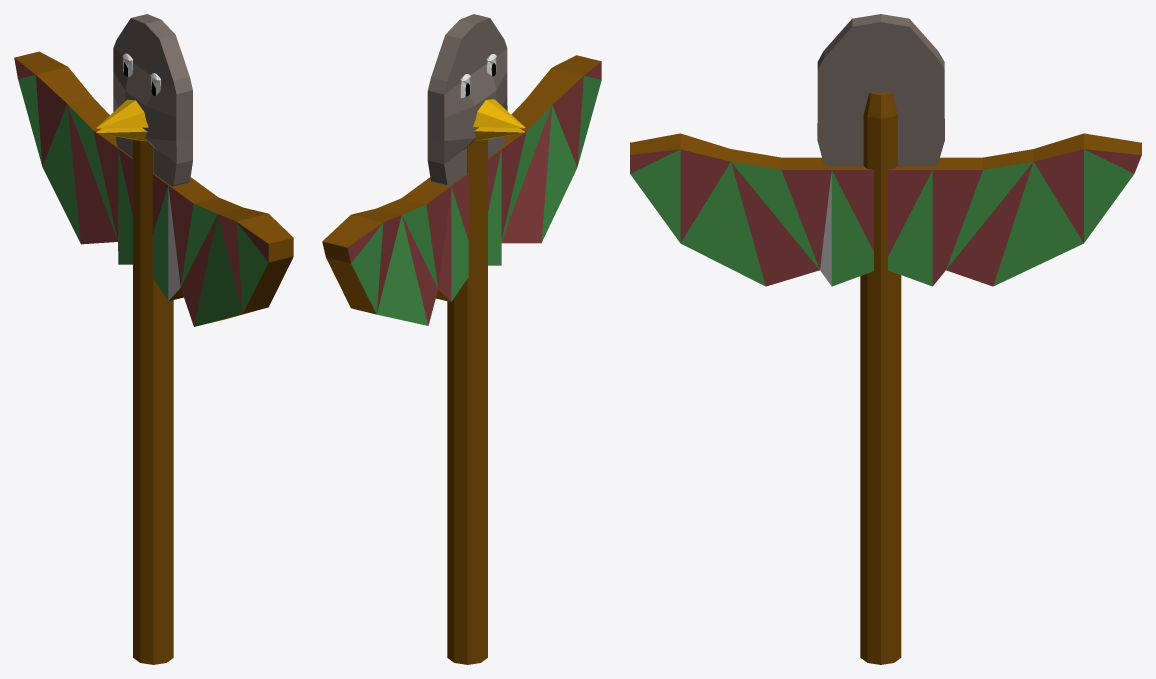
Rendered from Pfahl.fbx.
The picture shows the model from 3 angles, left to right: view 1: azimuth 30°, elevation 25°; view 2: azimuth 150°, elevation 25°; view 3: azimuth 270°, elevation 25°; orthographic projection.
Parts seen in each view (by area): view 1: pCube1, pCylinder1, pCube3, pCone2; view 2: pCube1, pCylinder1, pCube3, pCone2; view 3: pCube1, pCylinder1, pCube3.
Boxes of the visible parts, x1,y1,x2,y2 form: pCube1: (14, 51, 293, 326); pCylinder1: (133, 139, 173, 664); pCube3: (113, 14, 192, 186); pCone2: (96, 99, 148, 141); pCube1: (322, 55, 601, 325); pCylinder1: (447, 139, 487, 664); pCube3: (427, 14, 507, 186); pCone2: (473, 99, 525, 140); pCube1: (630, 133, 1141, 286); pCylinder1: (860, 92, 901, 664); pCube3: (817, 14, 944, 166).
Size of the model in its own units: 0.6805 by 5.47 by 3.97.
